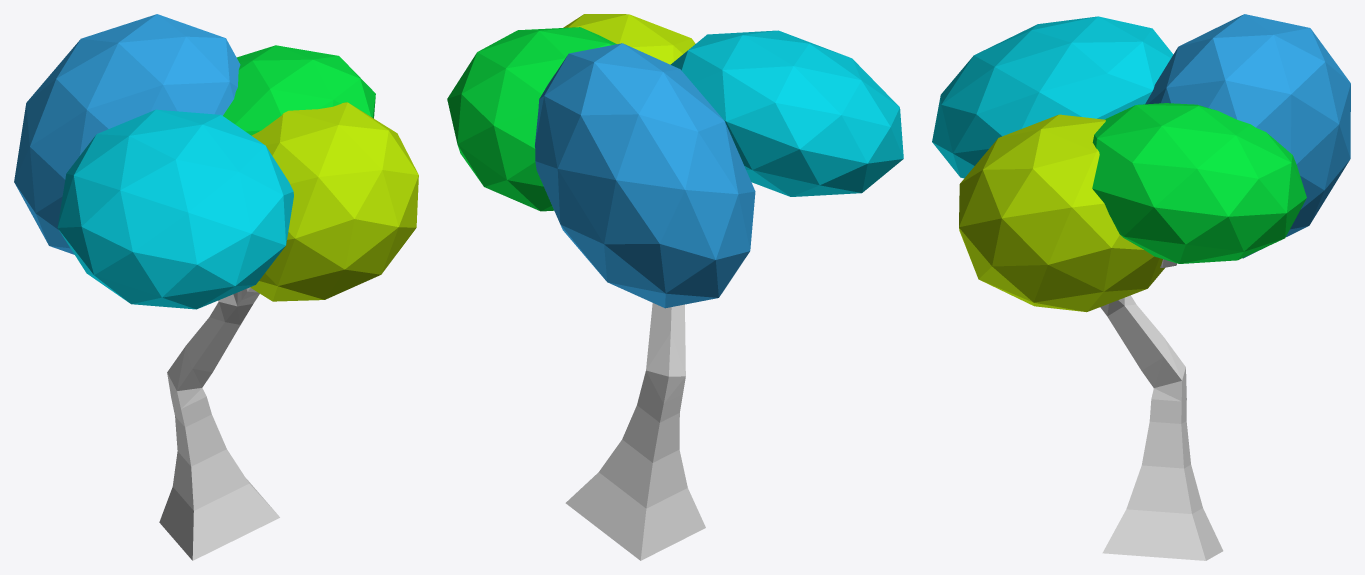
The model's file is tree2.fbx.
The picture shows the model from 3 angles, left to right: view 1: azimuth 30°, elevation 25°; view 2: azimuth 150°, elevation 25°; view 3: azimuth 270°, elevation 25°; orthographic projection. The views are drawn at different scales.
Visible parts, largest first — view 1: tree2; view 2: tree2; view 3: tree2.
Part boxes in pixels (left/top/right/bottom): tree2: left=14, top=14, right=418, bottom=560; tree2: left=447, top=14, right=903, bottom=560; tree2: left=932, top=14, right=1350, bottom=560.
Size of the model in its own units: 572 by 774 by 557.
